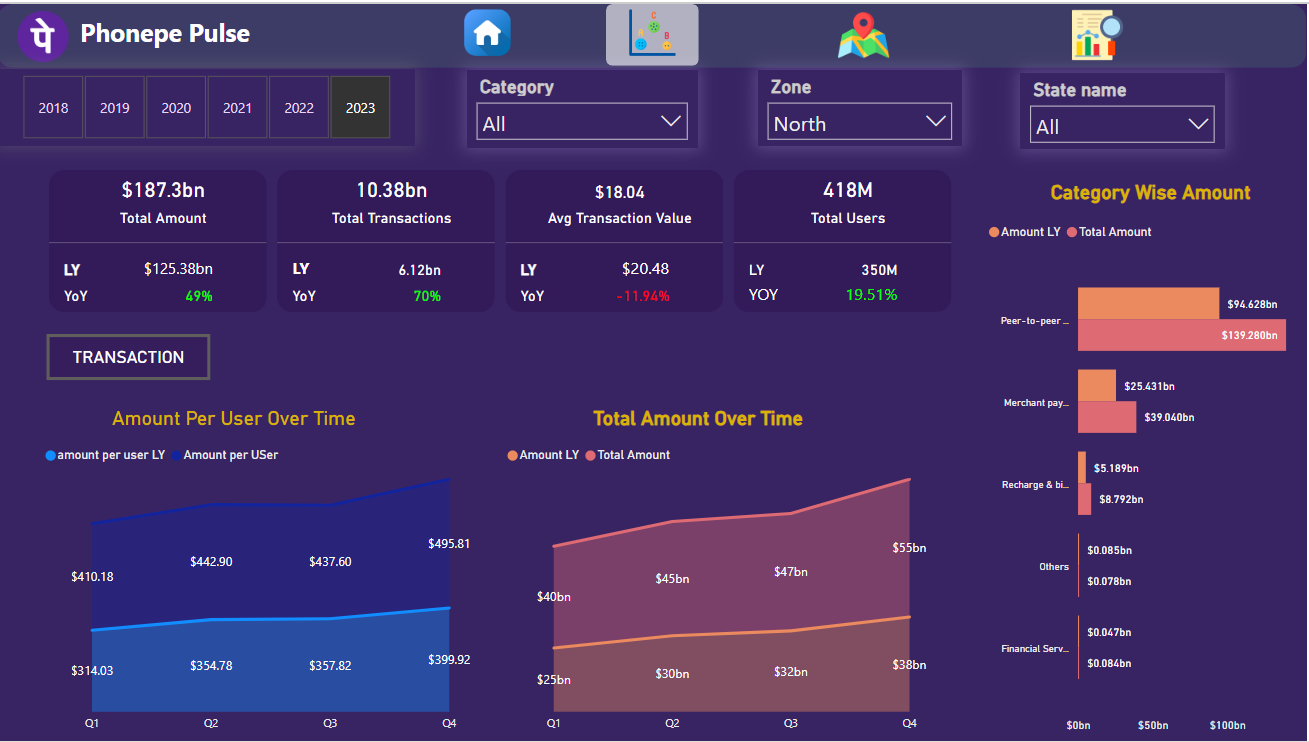

The page's visual inventory and layout, read from the dashboard file:
{"tool":"powerbi","page":{"name":"Category","canvas":[1280,720],"ordinal":1},"visuals":[{"type":"shape","box":[0,0,1279.4,62.4],"z":0},{"type":"actionButton","title":"TRANSACTION button","box":[48.1,322.6,160.1,45],"z":0,"group":"g1"},{"type":"textbox","box":[75.6,5.7,257,49.1],"z":1000},{"type":"stackedAreaChart","title":"Amount per user by year","fields":{"Category":["dim_date.year","dim_date.quarter"],"Y":["Report Measures.amount per user LY","Report Measures.Amount per USer"]},"box":[40.4,421.7,452,298.5],"z":1000,"group":"g1"},{"type":"image","box":[0,1.9,90,60],"z":2000},{"type":"stackedAreaChart","title":"Amount by year","fields":{"Category":["dim_date.year","dim_date.quarter"],"Y":["Report Measures.Amount LY","Report Measures.Total Amount"]},"box":[492.4,421.7,450,298.5],"z":2000,"group":"g1"},{"type":"slicer","fields":{"Values":["fact_aggregated_state.category"]},"box":[459.3,65.2,225.7,76.3],"z":3000},{"type":"textbox","box":[28.9,389,403.9,32.7],"z":3000,"group":"g1"},{"type":"slicer","fields":{"Values":["dim_date.year"]},"box":[0,62.4,408.2,75],"z":4000},{"type":"textbox","box":[478.9,389,411.6,42.4],"z":4000,"group":"g1"},{"type":"slicer","fields":{"Values":["regional_tag.Zone"]},"box":[742.3,65.2,200.3,74.7],"z":5000},{"type":"clusteredBarChart","title":"Amount by category","fields":{"Category":["fact_aggregated_state.category"],"Y":["Report Measures.Amount LY","Report Measures.Total Amount"]},"box":[961.6,202.2,319.3,516.1],"z":5000,"group":"g1"},{"type":"textbox","box":[972.5,167.5,308.1,34.7],"z":5500,"group":"g1"},{"type":"shape","box":[594.4,0,90.6,60.4],"z":6000},{"type":"image","box":[433.9,0,90.6,55.6],"z":8000},{"type":"image","box":[594.4,0,90.6,55.6],"z":9000},{"type":"image","box":[801.1,0,90.6,60.4],"z":10000},{"type":"cardVisual","fields":{"Data":["Report Measures.Total Amount","Report Measures.Total Transactions","Report Measures.Avg Transaction Value"]},"box":[45.4,156.9,895.8,149.3],"z":11000},{"type":"group","id":"g1","title":"Amount Visual","box":[28.9,167.5,1252,552.7],"z":13000},{"type":"slicer","fields":{"Values":["dim_regional_tag.State name"]},"box":[999.7,66.8,200.3,74.7],"z":14000},{"type":"image","box":[1029.9,0,90.6,60.4],"z":16000}]}

Visuals, with their boxes in screenshot pixels (x1, y1, x2, y2), scaled from the page's 1280x720 canvas onto the 1309x742 screenshot:
shape: {"x1": 0, "y1": 0, "x2": 1308, "y2": 64}
"TRANSACTION button" actionButton: {"x1": 49, "y1": 332, "x2": 213, "y2": 379}
textbox: {"x1": 77, "y1": 6, "x2": 340, "y2": 56}
"Amount per user by year" stackedAreaChart: {"x1": 41, "y1": 435, "x2": 504, "y2": 741}
image: {"x1": 0, "y1": 2, "x2": 92, "y2": 64}
"Amount by year" stackedAreaChart: {"x1": 504, "y1": 435, "x2": 964, "y2": 741}
slicer - fact_aggregated_state.category: {"x1": 470, "y1": 67, "x2": 701, "y2": 146}
textbox: {"x1": 30, "y1": 401, "x2": 443, "y2": 435}
slicer - dim_date.year: {"x1": 0, "y1": 64, "x2": 417, "y2": 142}
textbox: {"x1": 490, "y1": 401, "x2": 911, "y2": 445}
slicer - regional_tag.Zone: {"x1": 759, "y1": 67, "x2": 964, "y2": 144}
"Amount by category" clusteredBarChart: {"x1": 983, "y1": 208, "x2": 1308, "y2": 740}
textbox: {"x1": 995, "y1": 173, "x2": 1308, "y2": 208}
shape: {"x1": 608, "y1": 0, "x2": 701, "y2": 62}
image: {"x1": 444, "y1": 0, "x2": 536, "y2": 57}
image: {"x1": 608, "y1": 0, "x2": 701, "y2": 57}
image: {"x1": 819, "y1": 0, "x2": 912, "y2": 62}
cardVisual - Report Measures.Total Amount x Report Measures.Total Transactions: {"x1": 46, "y1": 162, "x2": 963, "y2": 316}
"Amount Visual" group: {"x1": 30, "y1": 173, "x2": 1308, "y2": 741}
slicer - dim_regional_tag.State name: {"x1": 1022, "y1": 69, "x2": 1227, "y2": 146}
image: {"x1": 1053, "y1": 0, "x2": 1146, "y2": 62}
